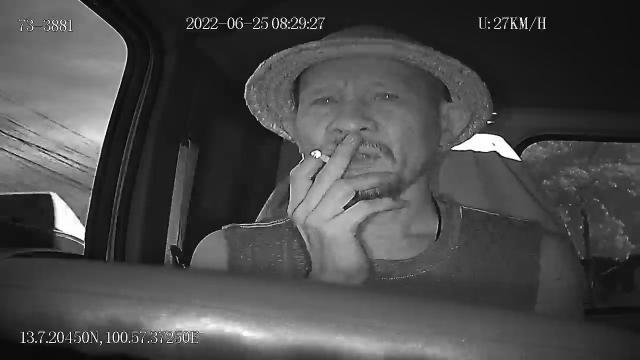SafeDriving: (306, 87, 344, 112), (367, 83, 405, 107)
Smoking: (310, 148, 332, 166)
